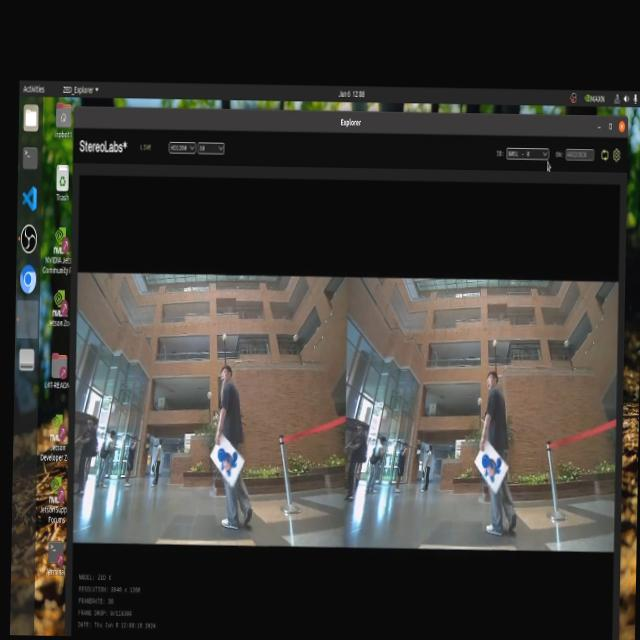blue: (483, 451, 508, 491), (214, 444, 242, 475)
